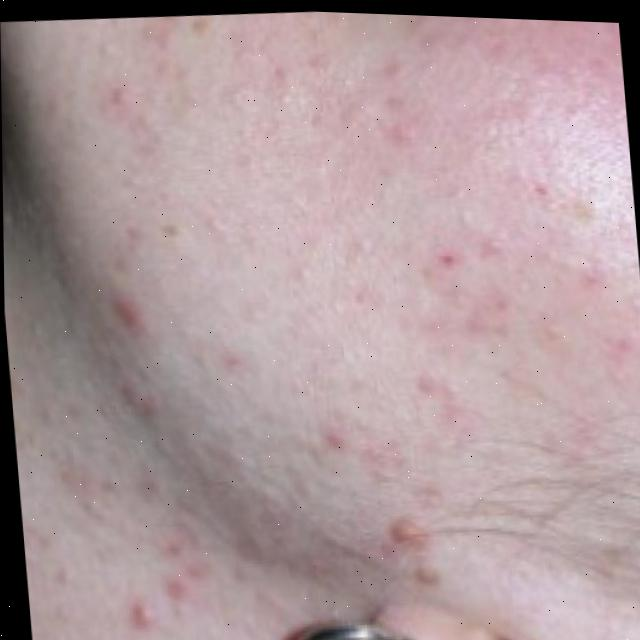Acne: (39, 1, 640, 640)
